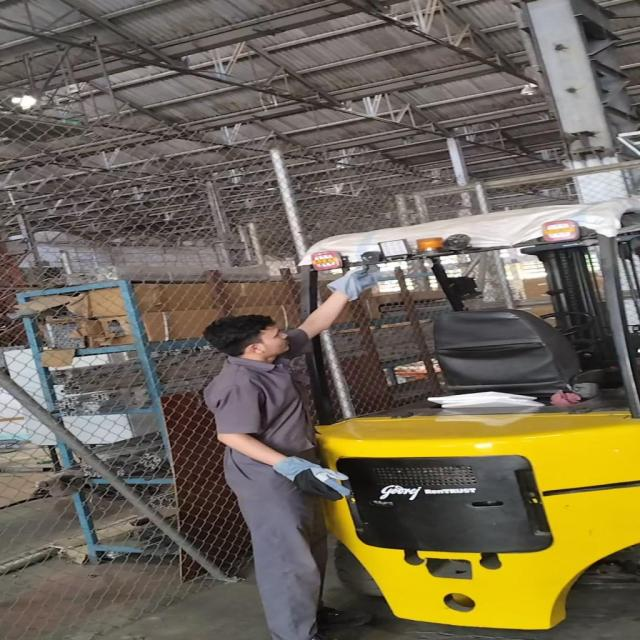Gloves-Detection: (273, 448, 343, 498), (331, 264, 378, 299)
